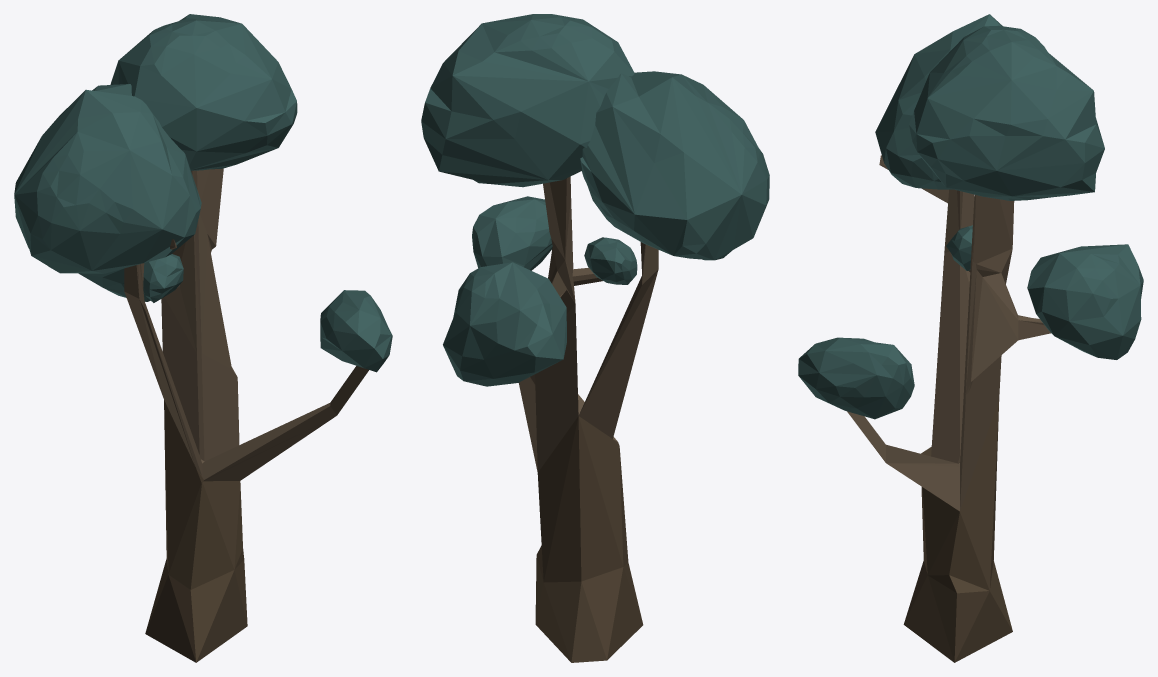
Rendered from Tree4.fbx.
The picture shows the model from 3 angles, left to right: view 1: azimuth 30°, elevation 25°; view 2: azimuth 150°, elevation 25°; view 3: azimuth 270°, elevation 25°; orthographic projection. The views are drawn at different scales.
Visible parts, largest first — view 1: Tree4; view 2: Tree4; view 3: Tree4.
Part boxes in pixels (box(x1,y1,x2,y2)): Tree4: box(14, 14, 392, 662); Tree4: box(421, 14, 769, 662); Tree4: box(798, 14, 1143, 662).
Bounding box in the file's own units: 187 × 341 × 176.
